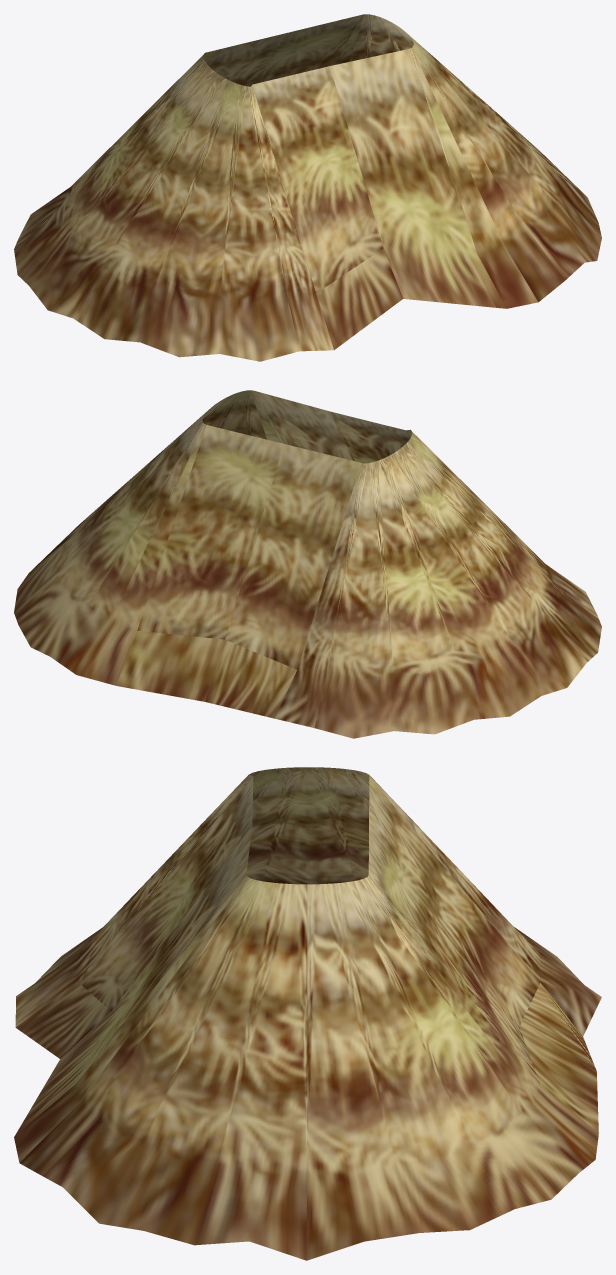
Rendered from roof_storehouse_02.dae.
The picture shows the model from 3 angles, top to bottom: view 1: azimuth 30°, elevation 25°; view 2: azimuth 150°, elevation 25°; view 3: azimuth 270°, elevation 25°; orthographic projection. The views are drawn at different scales.
Visible parts, largest first — view 1: roof_storehouse_02; view 2: roof_storehouse_02; view 3: roof_storehouse_02.
Part boxes in pixels (x1,y1,x2,y2): roof_storehouse_02: [14, 14, 601, 361]; roof_storehouse_02: [14, 390, 601, 738]; roof_storehouse_02: [14, 767, 601, 1260].
Size of the model in its own units: 13.66 by 10.24 by 5.18.
